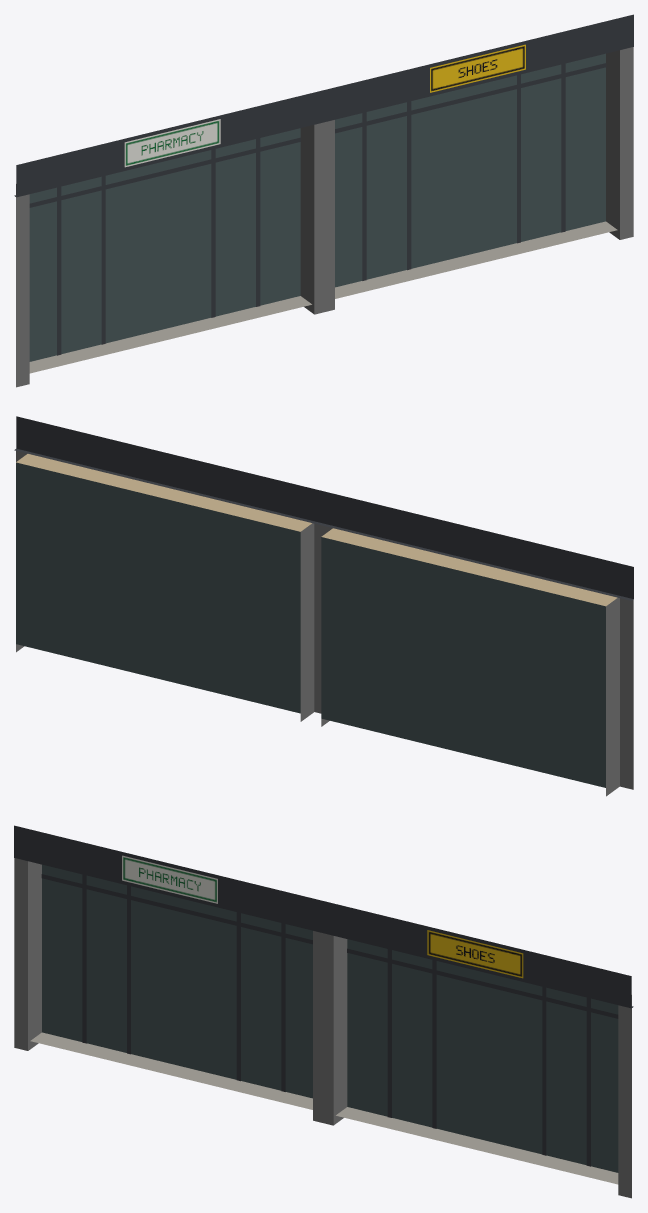
3 renders of one model, top to bottom at view 1: azimuth 30°, elevation 25°; view 2: azimuth 150°, elevation 25°; view 3: azimuth 330°, elevation 25°, orthographic.
Parts seen in each view (by area): view 1: a2006/750/base-w1; view 2: a2006/750/base-w1; view 3: a2006/750/base-w1.
Part boxes in pixels (left/top/right/bottom): a2006/750/base-w1: left=14, top=14, right=633, bottom=387; a2006/750/base-w1: left=14, top=416, right=633, bottom=796; a2006/750/base-w1: left=14, top=825, right=633, bottom=1198.
Size of the model in its own units: 9 by 3.1 by 0.361.
